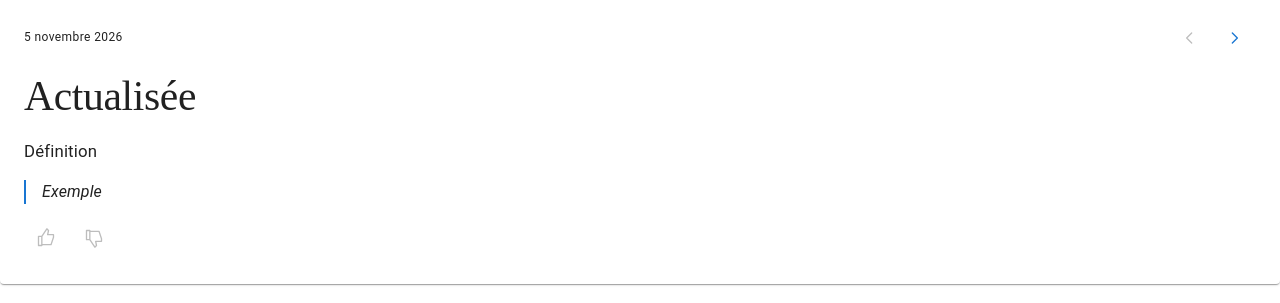
Test: actualise la première carte reçue du serveur et préserve un parcours commencé
The image size is (1280, 303).
Later steps or results of the test are not shown.
Check: the heading "Actualisée" is shown, box left=24, top=73, right=196, bottom=119
Click the button named "Autre découverte": (1234, 38) left=1212, top=16, right=1256, bottom=60
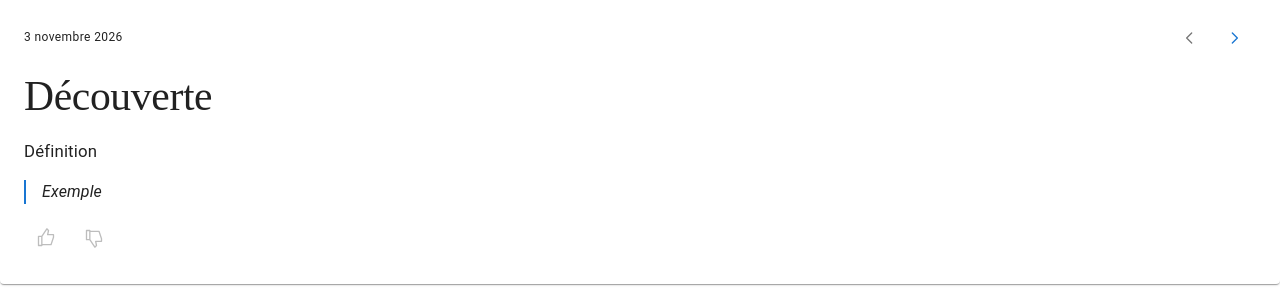
Check: the heading "Découverte" is shown, box left=24, top=73, right=212, bottom=119
